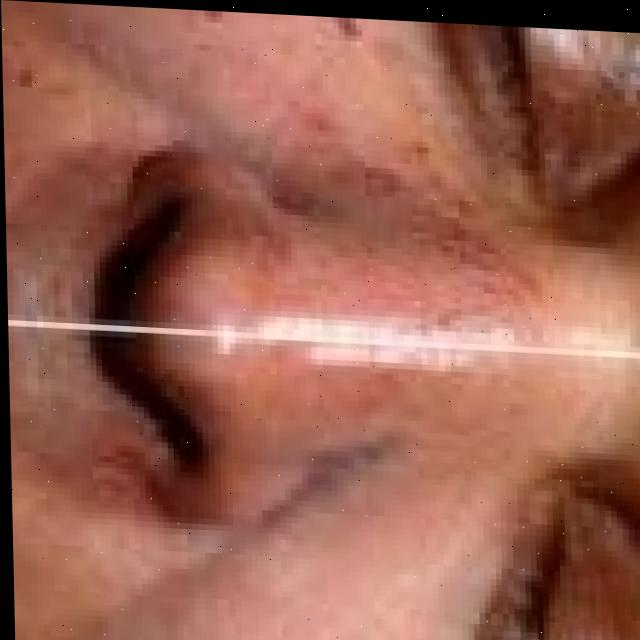Melasma: (238, 158, 493, 499)
